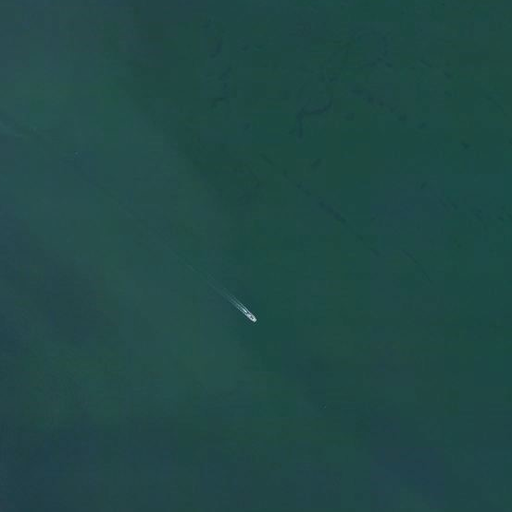ship: (237, 307, 260, 326)
